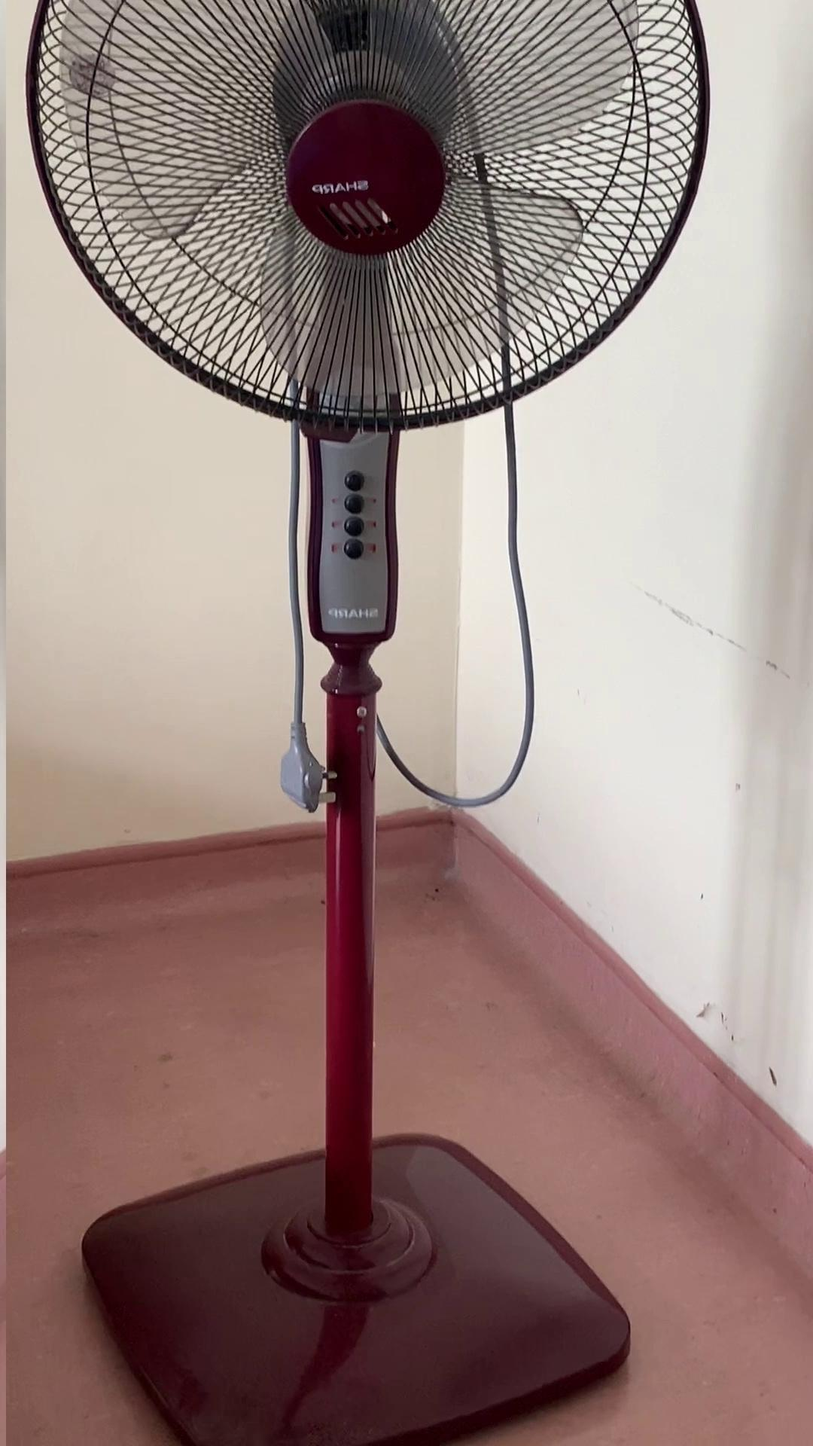fan: (26, 0, 730, 1446)
